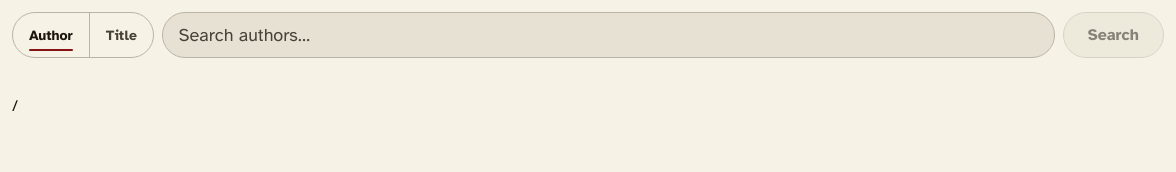
Test case: SearchBar (SPEC §9) › author free-text submit → ?authorContains= (substring)
Type "Browning" into the dropdown at point(608, 35), box [162,12,1055,58]
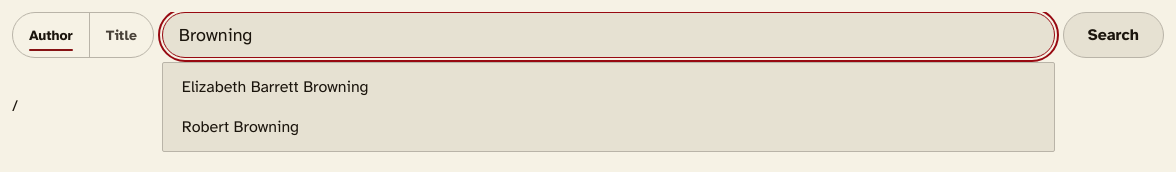
Click the button "Search" at point(1113, 35), box [1063,12,1164,58]
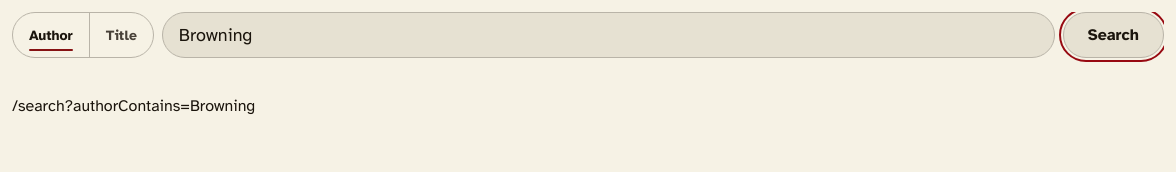
Expected: the text with test id "loc" reads "/search?authorContains=Browning", [12,96,255,116]
